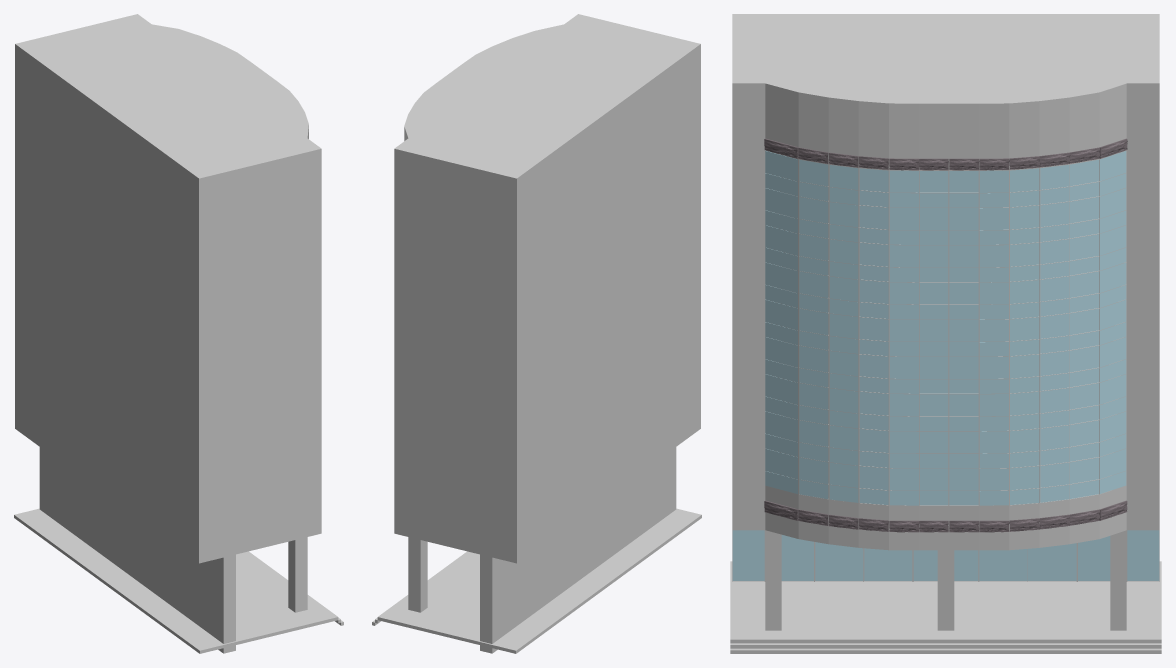
The model's file is 5 between 6 building.glb.
The picture shows the model from 3 angles, left to right: view 1: azimuth 30°, elevation 25°; view 2: azimuth 150°, elevation 25°; view 3: azimuth 270°, elevation 25°; orthographic projection. The views are drawn at different scales.
Parts seen in each view (by area): view 1: No.5 between No.6 conect.001, Cube.004, stairs, Cube.002, Cube.011, Cube.006, Cube.013, Cube.012, Cube, Cube.008, Cube.010, Cube.005 (+1 smaller); view 2: No.5 between No.6 conect.001, Cube.002, stairs, Cube.004, Cube.006, Cube.011, Cube.005, Cube.008, Cube.003, Cube.012, Cube.009, Cube.010 (+1 smaller); view 3: No.5 between No.6 conect.001, stairs, Cube.002, Cube.004, right-windows-12, right-windows-5, right-windows-8, right-windows-10, right-windows-11, right-windows-6, right-windows-4, right-windows-9 (+18 smaller).
Boxes of the visible parts, <box> form: No.5 between No.6 conect.001: <box>29,24,308,552</box>; Cube.004: <box>185,138,321,563</box>; stairs: <box>14,508,343,653</box>; Cube.002: <box>15,14,151,438</box>; Cube.011: <box>145,524,188,617</box>; Cube.006: <box>75,473,117,565</box>; Cube.013: <box>209,554,235,653</box>; Cube.012: <box>188,556,209,633</box>; Cube: <box>288,537,307,612</box>; Cube.008: <box>53,457,74,534</box>; Cube.010: <box>131,514,145,586</box>; Cube.005: <box>39,447,53,519</box>; No.5 between No.6 conect.001: <box>404,24,686,552</box>; Cube.002: <box>394,138,530,563</box>; stairs: <box>372,508,701,653</box>; Cube.004: <box>564,14,700,438</box>; Cube.006: <box>527,524,570,617</box>; Cube.011: <box>598,473,640,565</box>; Cube.005: <box>480,554,506,653</box>; Cube.008: <box>506,556,527,633</box>; Cube.003: <box>408,537,427,612</box>; Cube.012: <box>641,457,662,534</box>; Cube.009: <box>570,514,584,586</box>; Cube.010: <box>584,504,598,576</box>; No.5 between No.6 conect.001: <box>765,14,1126,550</box>; stairs: <box>730,561,1161,653</box>; Cube.002: <box>1126,14,1159,530</box>; Cube.004: <box>732,14,765,530</box>; right-windows-12: <box>765,150,797,493</box>; right-windows-5: <box>979,170,1008,505</box>; right-windows-8: <box>889,170,918,505</box>; right-windows-10: <box>829,165,858,502</box>; right-windows-11: <box>799,159,828,499</box>; right-windows-6: <box>949,171,978,505</box>; right-windows-4: <box>1010,168,1039,504</box>; right-windows-9: <box>859,168,888,504</box>.
Size of the model in its own units: 52.23 by 150 by 105.
